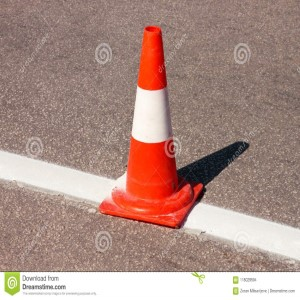traffic cone: (98, 26, 204, 229)
